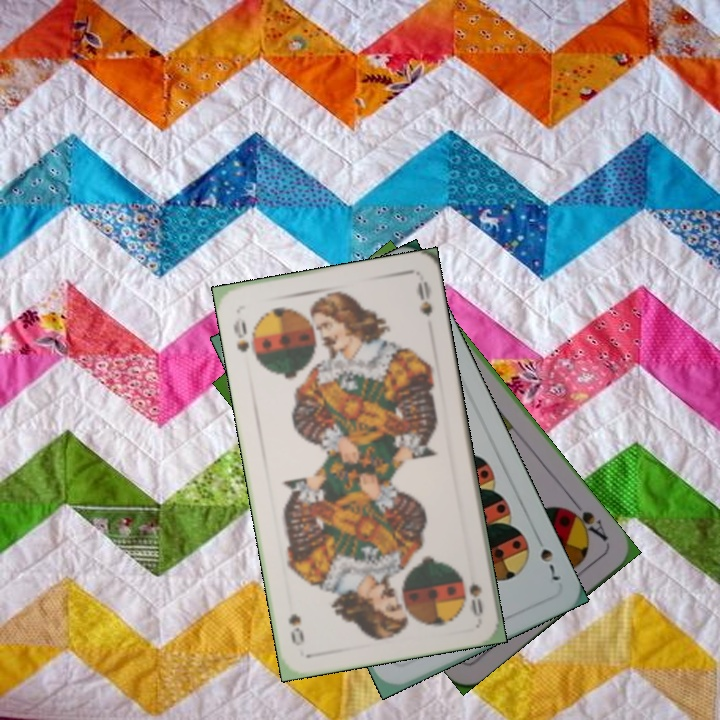S7: (531, 530, 564, 584)
SA: (562, 497, 611, 544)
SO: (229, 313, 259, 365), (465, 579, 486, 619)
